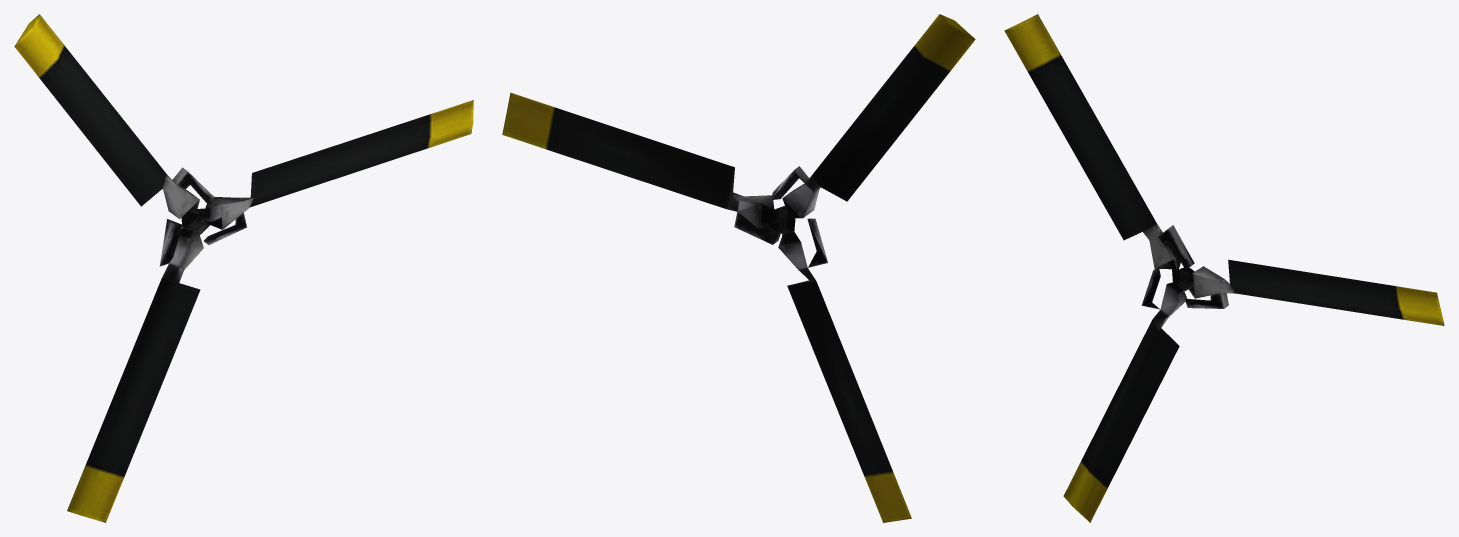
Rendered from backBlade8.obj.
3 views of the same model, side by side, from view 1: azimuth 30°, elevation 25°; view 2: azimuth 150°, elevation 25°; view 3: azimuth 330°, elevation 25° (orthographic). The views are drawn at different scales.
Visible parts, largest first — view 1: Null_glass.005_Body; view 2: Null_glass.005_Body; view 3: Null_glass.005_Body.
Part boxes in pixels (x1,y1,x2,y2): Null_glass.005_Body: (14, 14, 473, 522); Null_glass.005_Body: (502, 14, 975, 522); Null_glass.005_Body: (1004, 14, 1444, 522).
Size of the model in its own units: 1.36 by 1.46 by 0.0838.
Materials: 1 (1 with a texture image).
